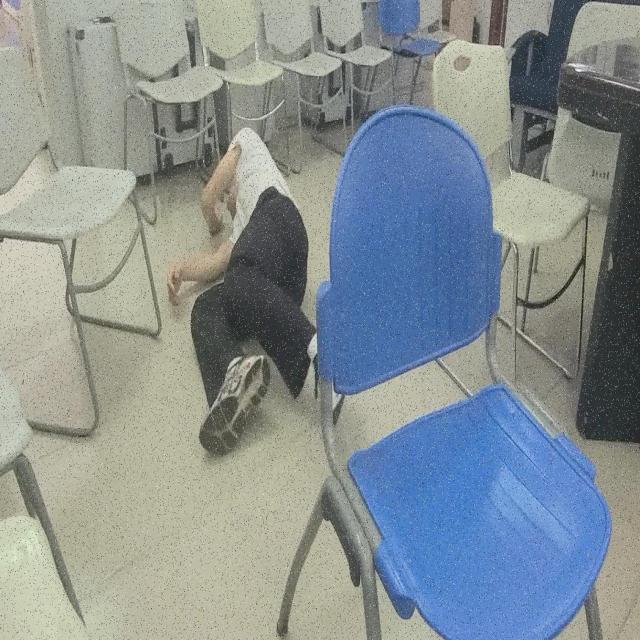fall: (165, 124, 352, 466)
